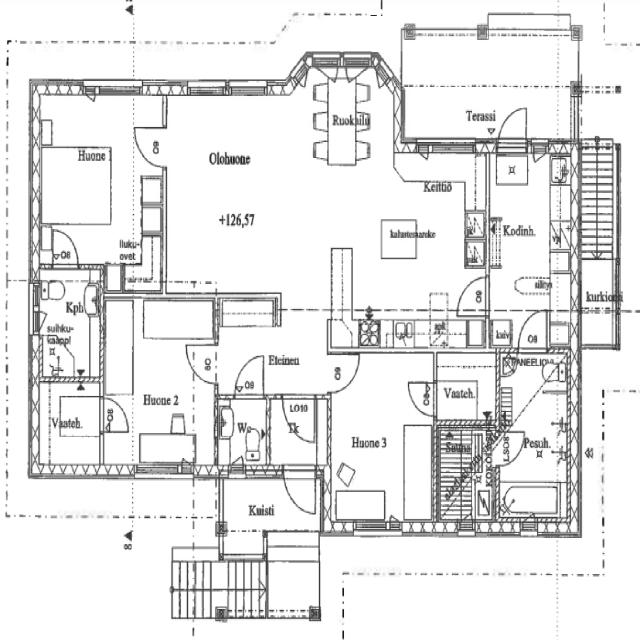door: (283, 466, 315, 522), (283, 394, 315, 442), (498, 100, 526, 152), (134, 127, 166, 167), (518, 310, 547, 353), (327, 355, 359, 393), (457, 278, 489, 316), (186, 346, 218, 384), (235, 356, 263, 399), (100, 398, 129, 434), (52, 231, 78, 269), (496, 432, 524, 466), (409, 384, 436, 416)
